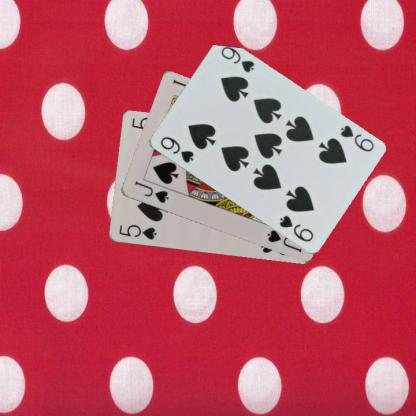5s: (116, 222, 158, 241)
9s: (337, 122, 375, 154), (157, 134, 195, 164)
Js: (132, 178, 170, 204)
